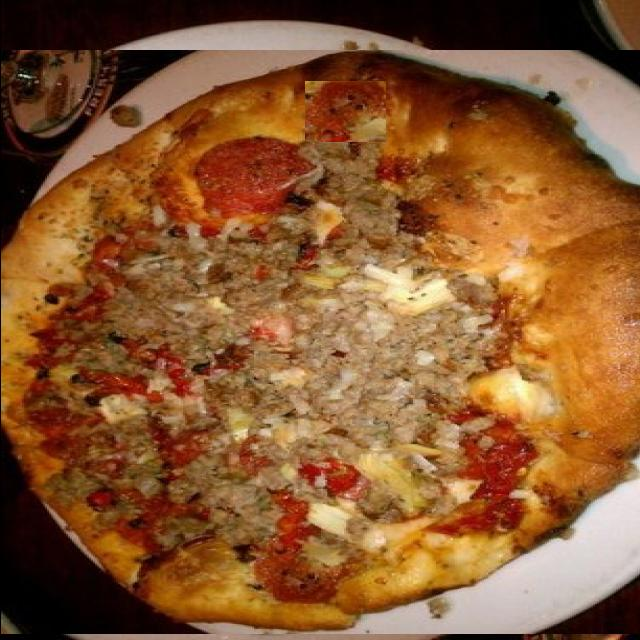pepperoni: (337, 465, 449, 547), (302, 81, 384, 142)
pizza: (0, 51, 640, 634)
